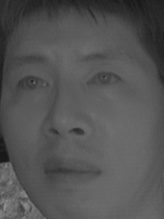eye: (82, 69, 124, 91), (13, 74, 54, 95)
mouth: (39, 151, 104, 189)
